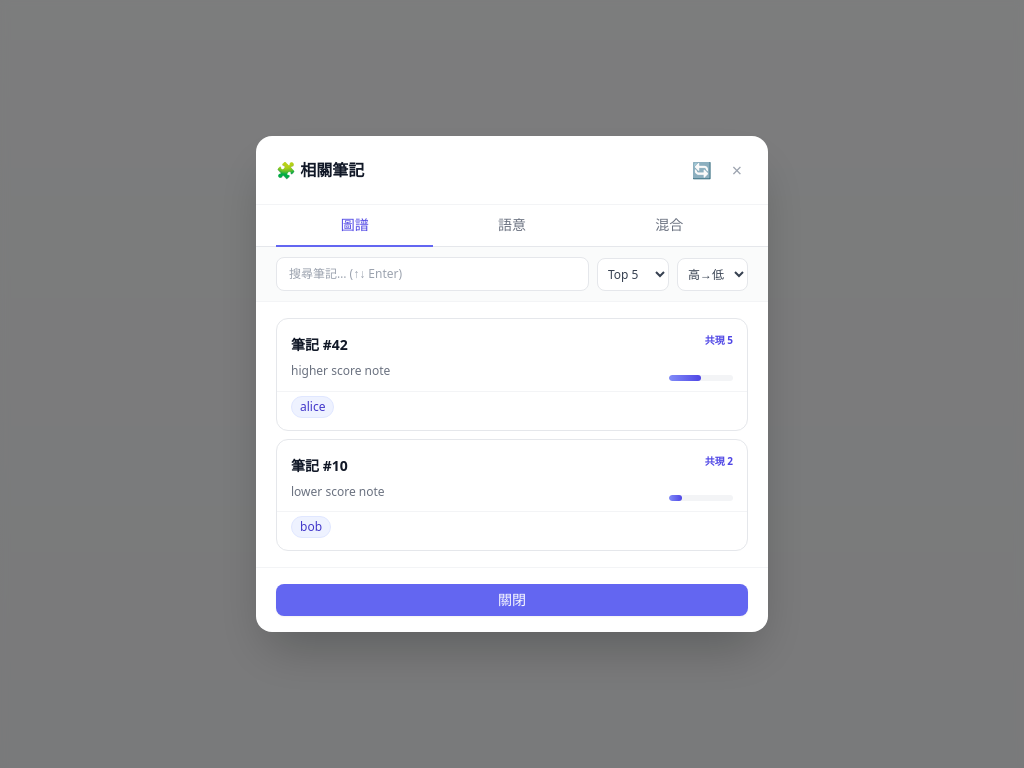
Test: RelatedNotesPanel › (c) search filter hides non-matching items
expect the list item with test id "card-note-42" is shown: met, box [276, 318, 748, 430]
Type "42" into the field labelled "搜尋". click: (432, 274)
box: [276, 257, 589, 291]
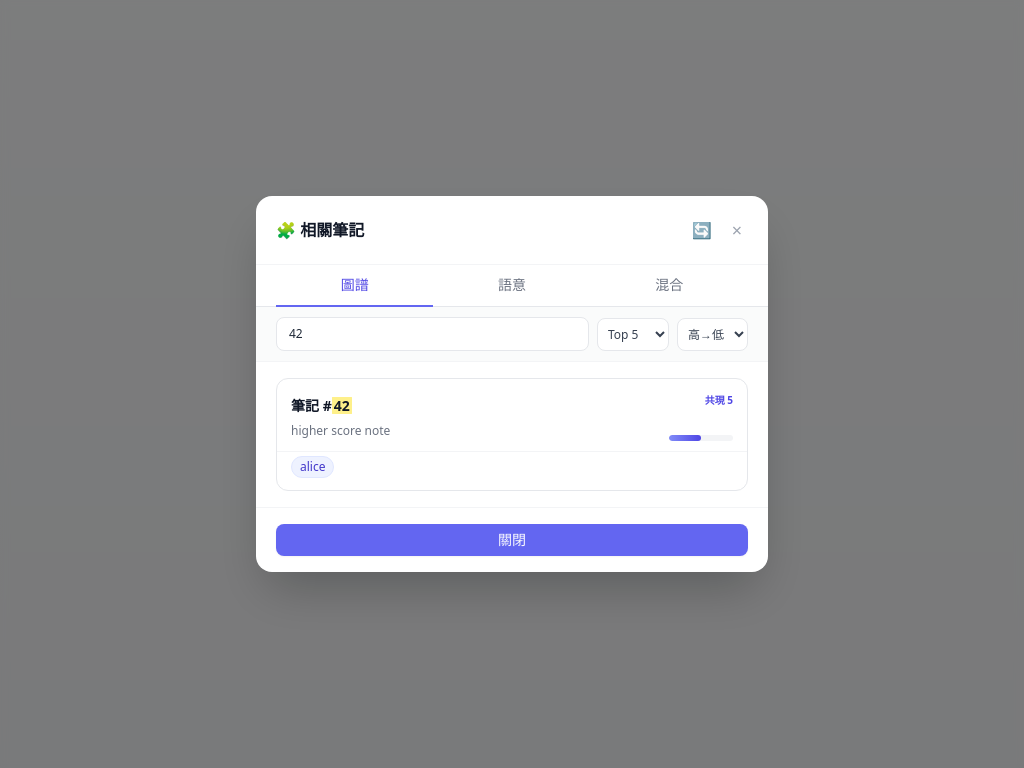
expect the list item with test id "card-note-42" is shown: met, box [276, 378, 748, 491]
expect the list item with test id "card-note-10" is gone: met
Replace the text in the field named "搜尋" with "zzz". click: (432, 334)
box: [276, 317, 589, 351]
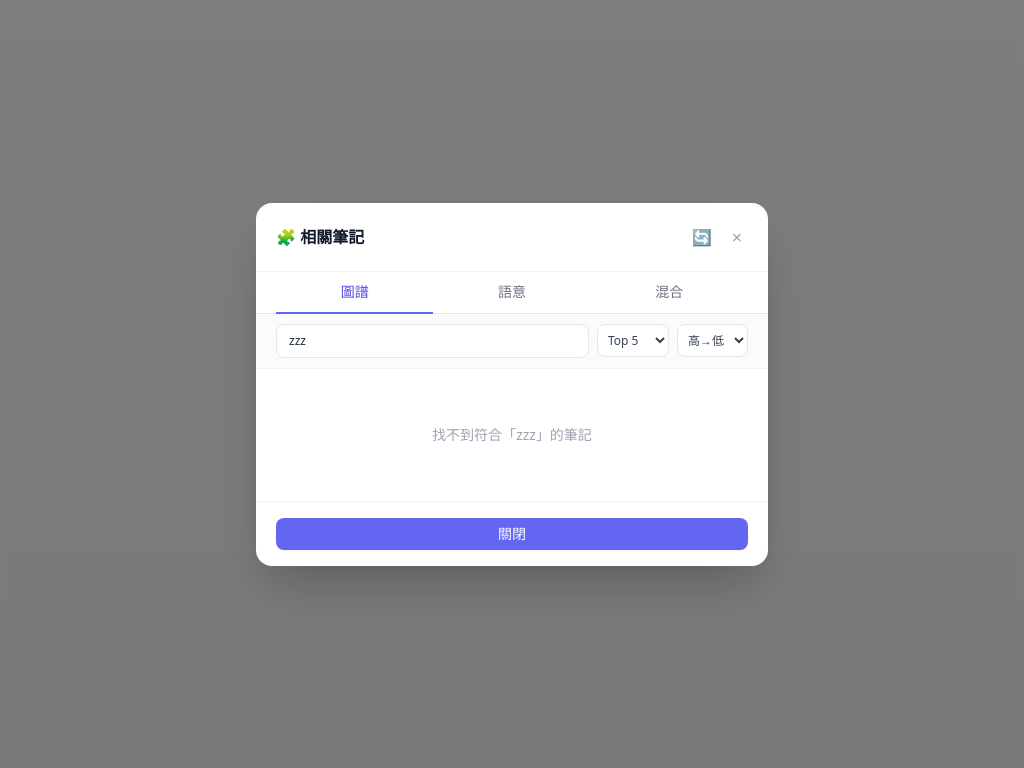
expect the text "找不到符合「zzz」的筆記" is shown: met, box [432, 424, 592, 444]
